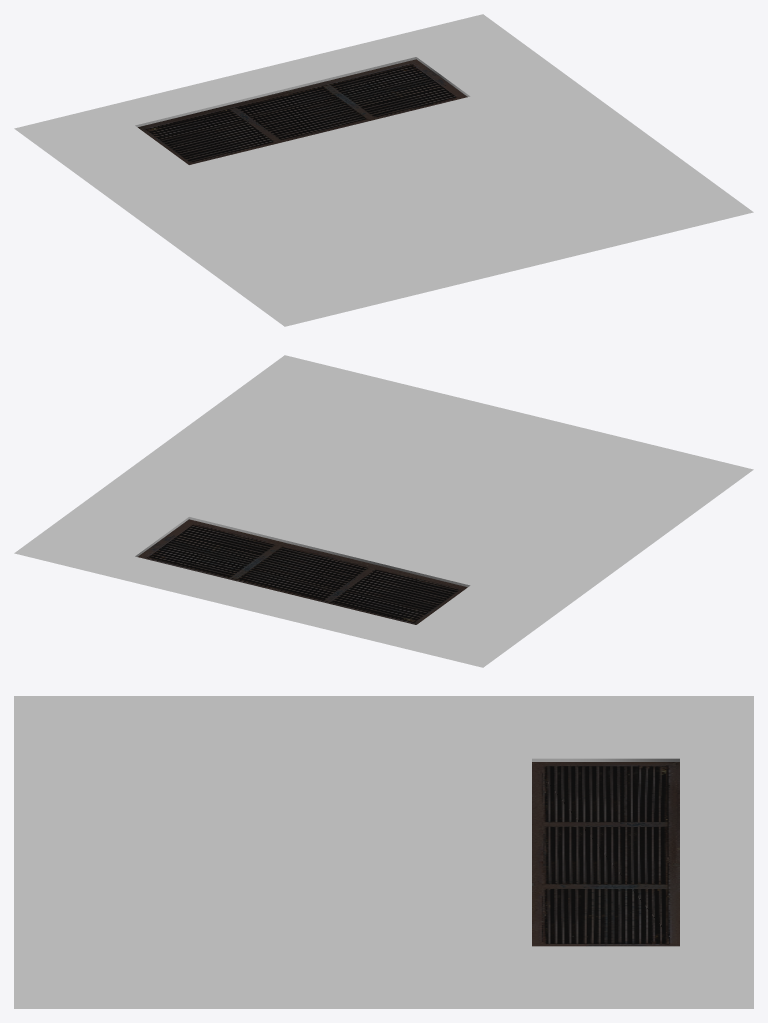
Rendered from asphalt_hr_2.fbx.
3 views of the same model, one above another, from view 1: azimuth 30°, elevation 25°; view 2: azimuth 150°, elevation 25°; view 3: azimuth 270°, elevation 25° (orthographic). The views are drawn at different scales.
Visible parts, largest first — view 1: asphalt_hr_2; view 2: asphalt_hr_2; view 3: asphalt_hr_2.
Part boxes in pixels (<box>): asphalt_hr_2: <box>14,14,753,326</box>; asphalt_hr_2: <box>14,355,753,667</box>; asphalt_hr_2: <box>14,696,753,1008</box>.
Bounding box in the file's own units: 4 × 4 × 0.02.
